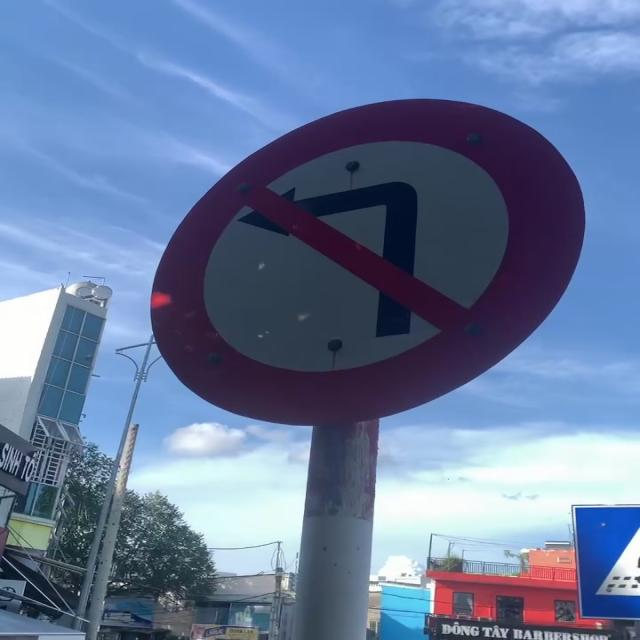Cam_Re_Trai: (145, 96, 590, 433)
